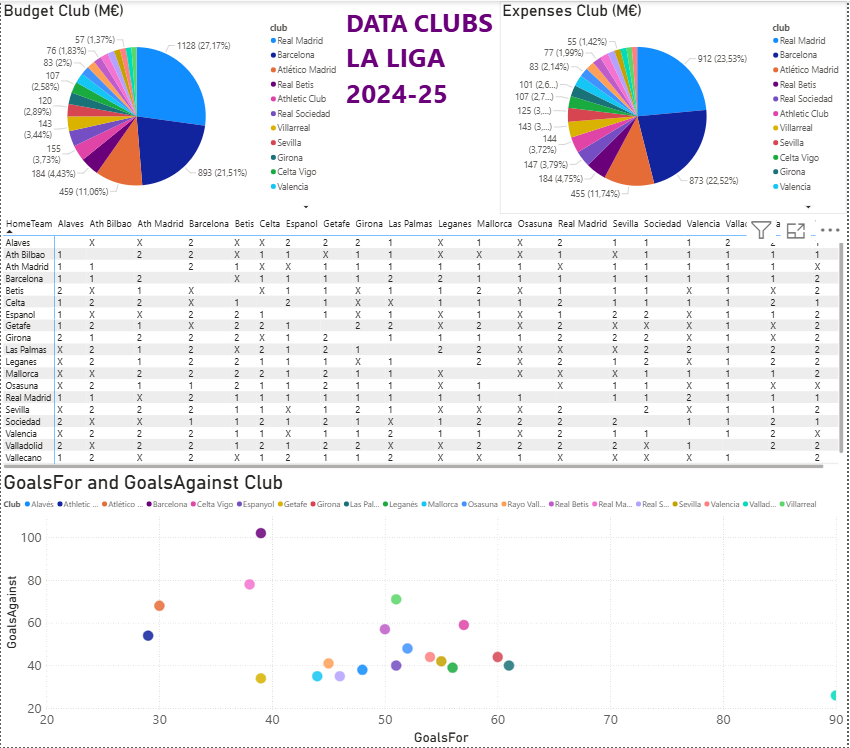

This screenshot's page, from the dashboard's own definition file:
{"tool":"powerbi","page":{"name":"Datos Equipos","canvas":[1700,1500],"ordinal":2},"visuals":[{"type":"textbox","box":[688.7,0,447.4,256.4],"z":1000},{"type":"scatterChart","title":"GoalsFor and GoalsAgainst Club","fields":{"X":["clasification_clean.GoalsFor"],"Y":["clasification_clean.GoalsAgainst"],"Series":["clasification_clean.Club"]},"box":[0,945,1699.1,555.5],"z":2000},{"type":"pivotTable","fields":{"Rows":["season_clean.HomeTeam"],"Columns":["season_clean.AwayTeam"],"Values":["Min(season_clean.Result)"]},"box":[0,427.3,1699.1,517.8],"z":3000},{"type":"pieChart","title":"Budget Club (M€)","fields":{"Y":["Sum(budget_expenses_club.budget)"],"Category":["budget_expenses_club.club"]},"box":[0,0,688.7,427.3],"z":3001},{"type":"pieChart","title":"Expenses Club (M€)","fields":{"Category":["budget_expenses_club.club"],"Y":["Sum(budget_expenses_club.expenses)"]},"box":[1002.9,0,696.2,427.3],"z":3002}]}

Visuals, with their boxes in screenshot pixels (x1, y1, x2, y2), scaled from the page's 1700x1500 canvas onto the 850x748 screenshot:
textbox: 344 0 568 128
"GoalsFor and GoalsAgainst Club" scatterChart: 0 471 849 747
pivotTable - season_clean.HomeTeam x season_clean.AwayTeam: 0 213 849 471
"Budget Club (M€)" pieChart: 0 0 344 213
"Expenses Club (M€)" pieChart: 501 0 849 213
